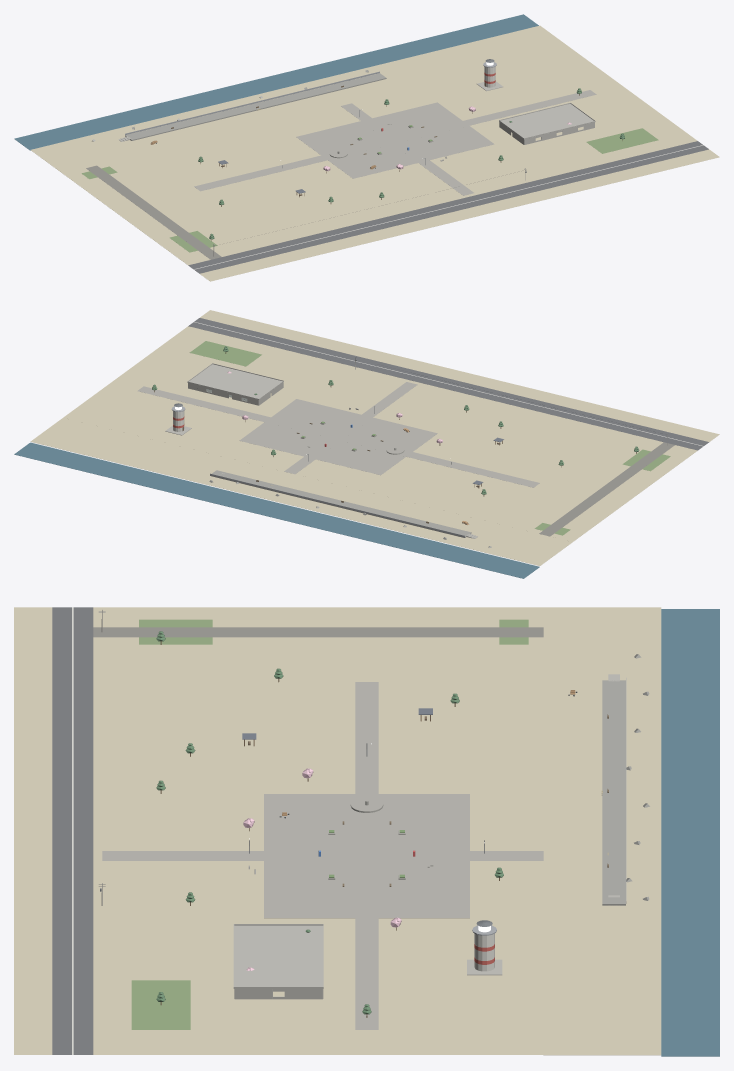
The model's file is zone_7.glb.
The picture shows the model from 3 angles, top to bottom: view 1: azimuth 30°, elevation 25°; view 2: azimuth 150°, elevation 25°; view 3: azimuth 270°, elevation 25°; orthographic projection. The views are drawn at different scales.
Parts seen in each view (by area): view 1: zone_akitsu_z7; view 2: zone_akitsu_z7; view 3: zone_akitsu_z7.
Boxes of the visible parts, bbox=[...] form: zone_akitsu_z7: bbox=[14, 14, 719, 281]; zone_akitsu_z7: bbox=[14, 310, 719, 578]; zone_akitsu_z7: bbox=[14, 607, 719, 1056].
Size of the model in its own units: 360 by 18.57 by 240.
